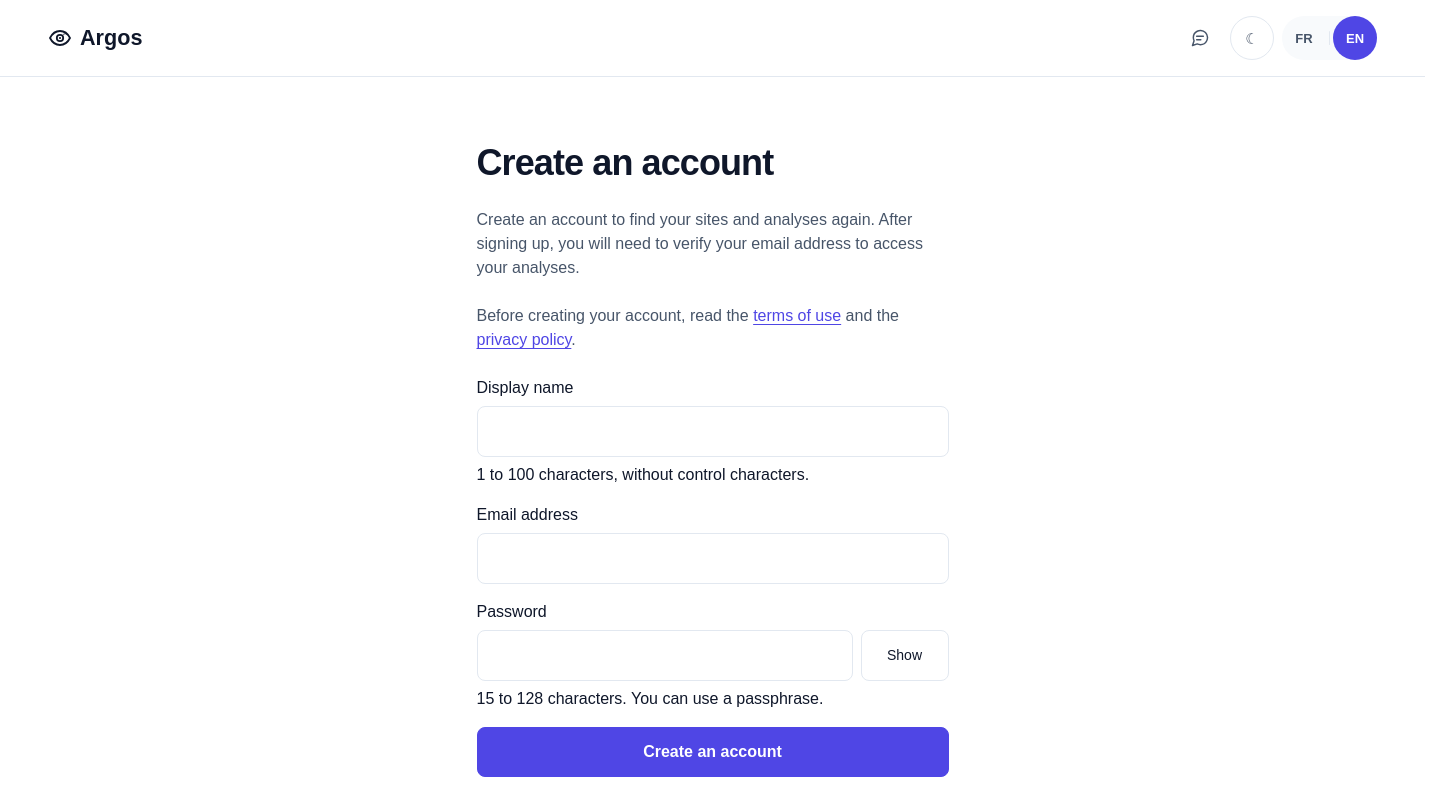
explains registration and offers a non-revealing focused confirmation with correction in en
expect the text "Create an account to find your sites and analyses again. After signing up, you will need to verify your email address to" is shown: met, box top-left (476, 211), bottom-right (923, 276)
expect the text "Before creating your account, read the" is shown: met, box top-left (476, 307), bottom-right (749, 324)
Type "Fixture" into the field labelled "Display name".
click(712, 432); type("Fixture")  # box top-left (476, 406), bottom-right (948, 457)
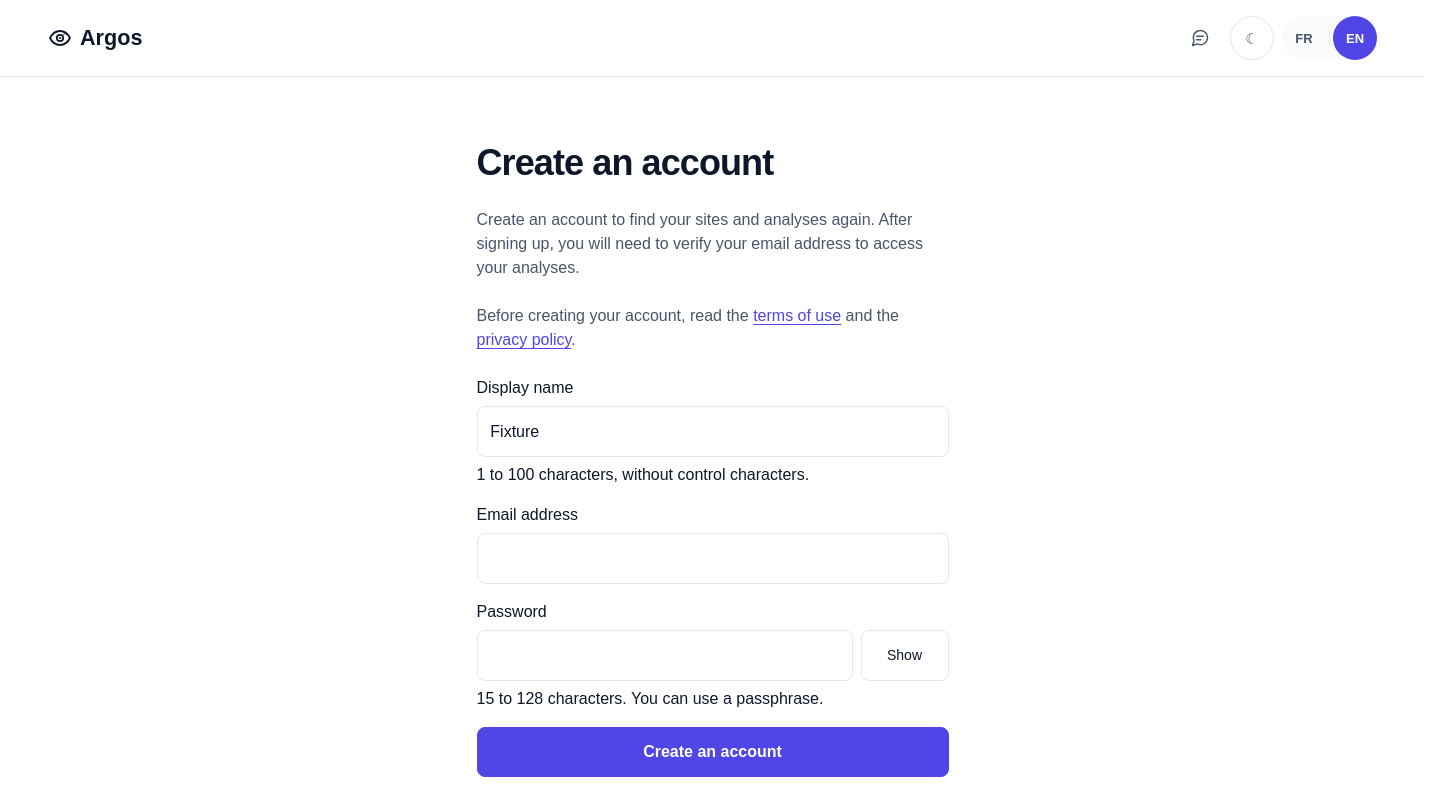
Type "fixture@example.invalid" into the field labelled "Email address".
click(712, 558); type("fixture@example.invalid")  # box top-left (476, 533), bottom-right (948, 584)
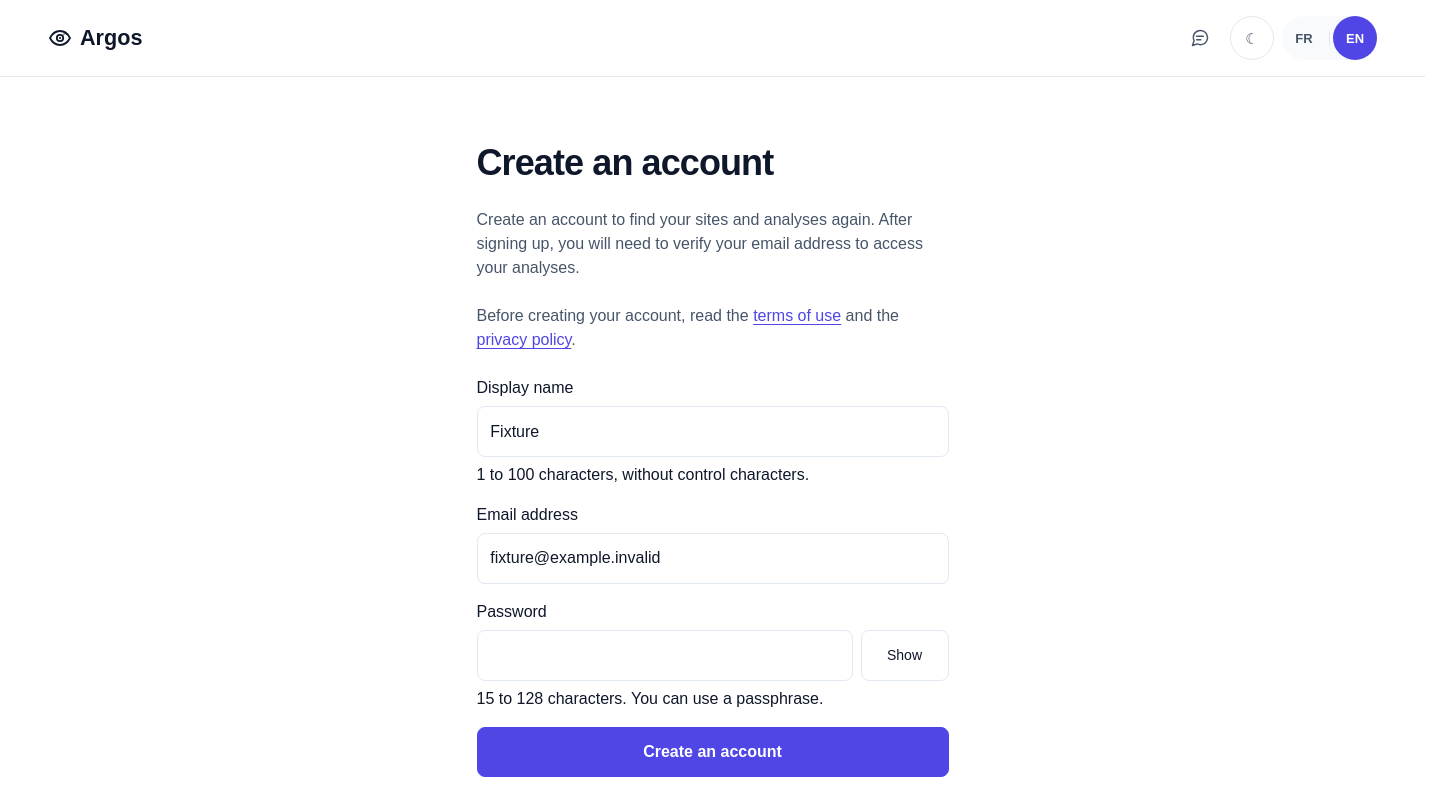
Type "synthetic long passphrase" into the password field labelled "Password".
click(664, 656); type("synthetic long passphrase")  # box top-left (476, 630), bottom-right (852, 681)
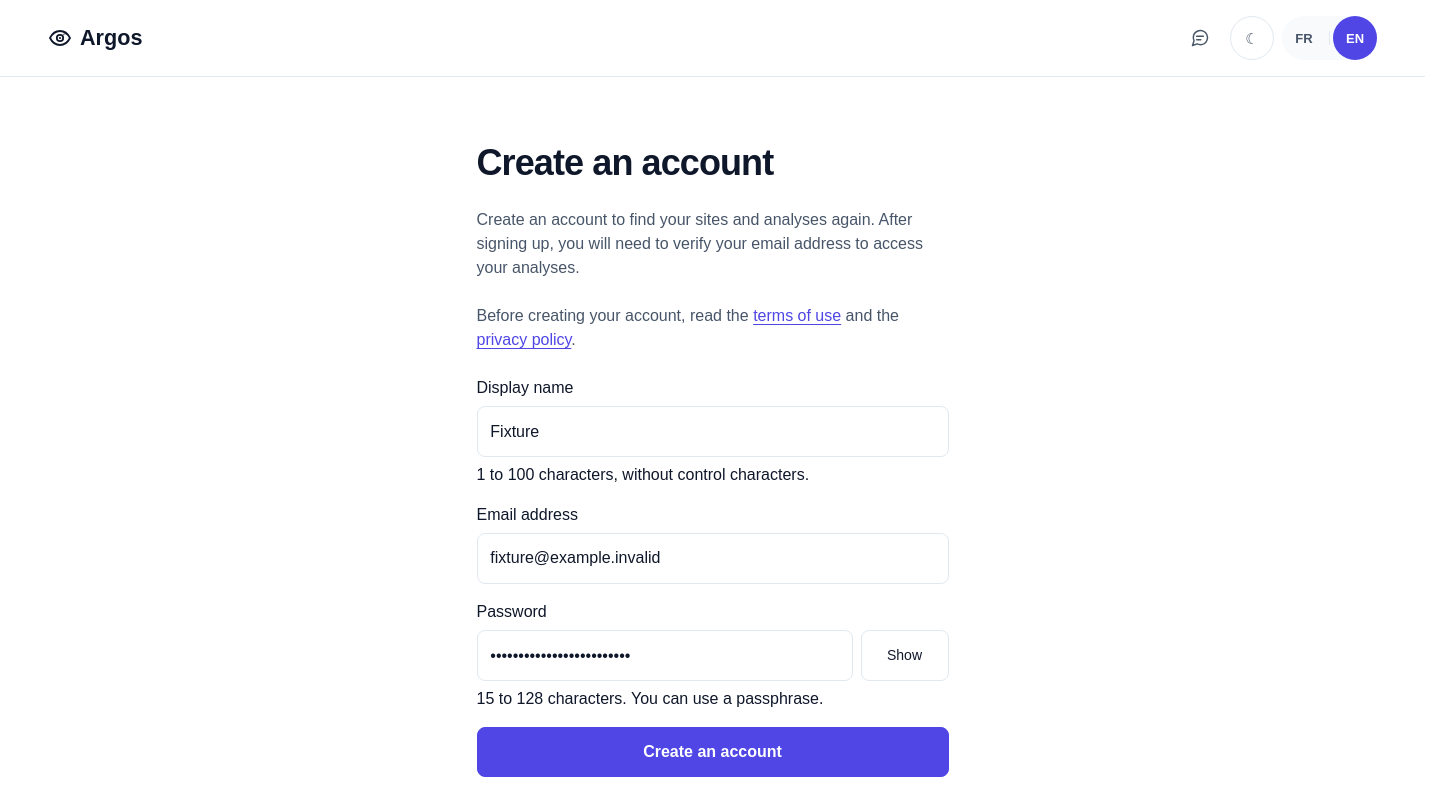
Submit the form named "Create an account", box top-left (476, 376), bottom-right (948, 777)
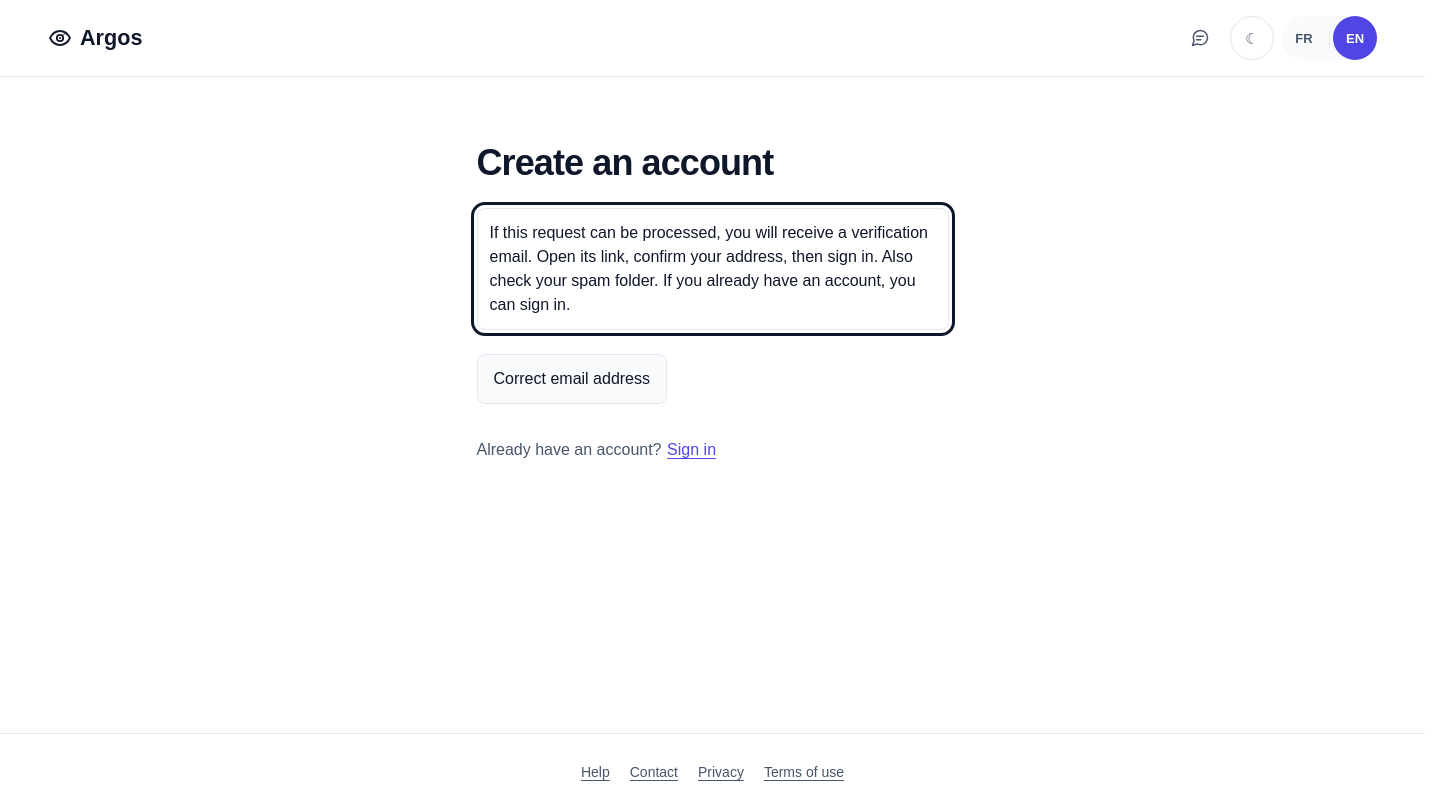
expect the message shows "If this request can be processed, you will receive a verification email. Open its link, confirm your address, then sign in. Also check your spam folder. If you": met, box top-left (490, 224), bottom-right (928, 313)
expect the label labelled "Password" is gone: met
Click the button "Correct email address".
click(572, 379)  # box top-left (476, 354), bottom-right (667, 404)
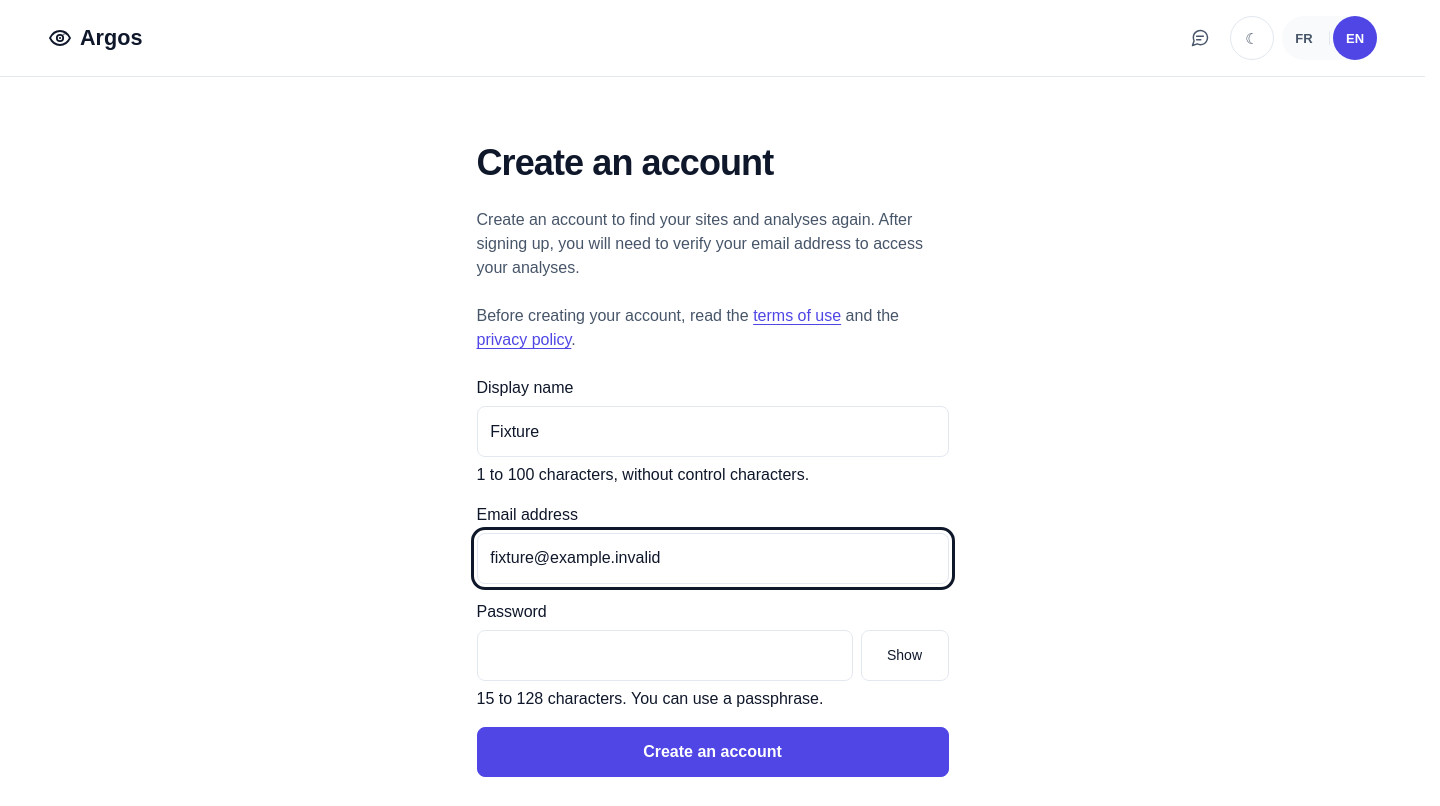
expect the password field labelled "Password" is empty: met, box top-left (476, 630), bottom-right (852, 681)
expect the field labelled "Email address" holds "fixture@example.invalid": met, box top-left (476, 533), bottom-right (948, 584)
expect the field labelled "Display name" holds "Fixture": met, box top-left (476, 406), bottom-right (948, 457)
